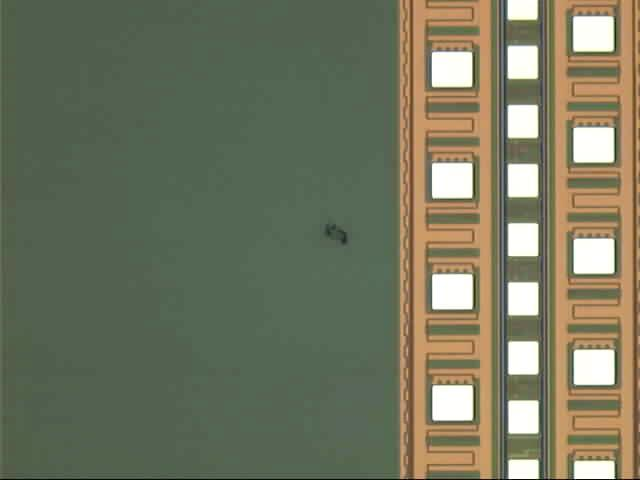PIQ PARTICLE: (319, 219, 352, 248)
